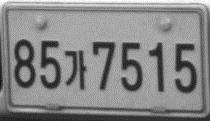1: (147, 40, 165, 93)
5: (173, 42, 198, 94), (120, 41, 144, 92), (39, 39, 61, 89)
7: (91, 40, 115, 90)
8: (13, 39, 36, 88)
가: (63, 49, 87, 91)
